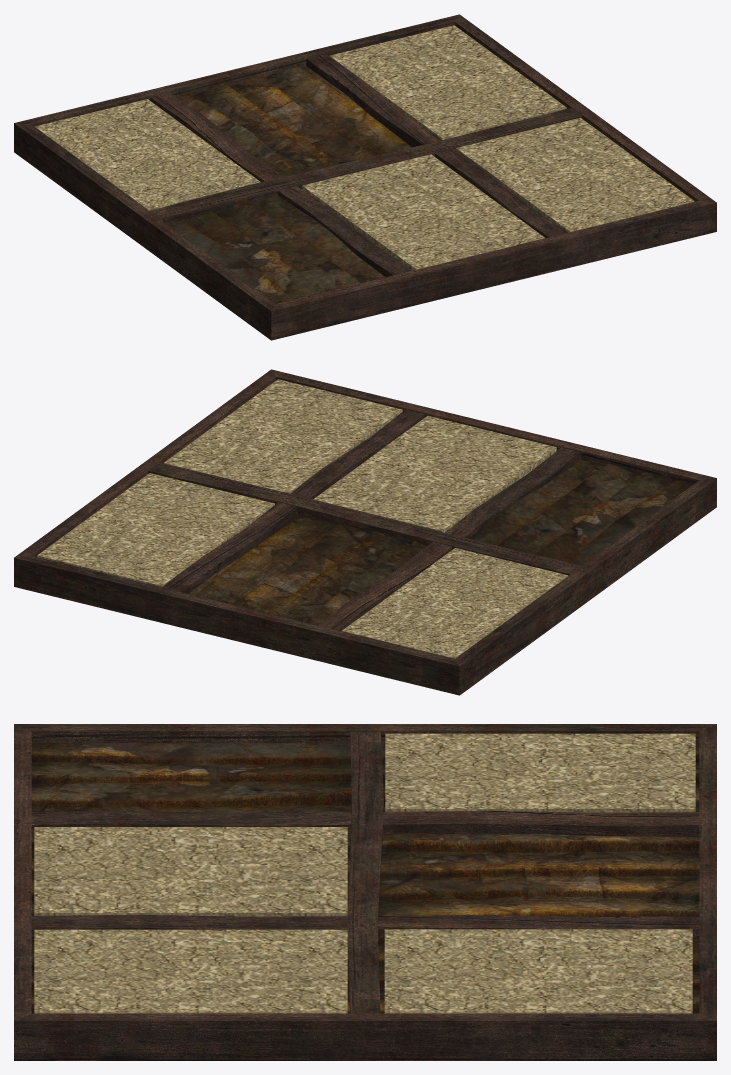
Rendered from attic_floor.DAE.
3 views of the same model, one above another, from view 1: azimuth 30°, elevation 25°; view 2: azimuth 150°, elevation 25°; view 3: azimuth 270°, elevation 25° (orthographic). The views are drawn at different scales.
Visible parts, largest first — view 1: Box003, Box008; view 2: Box003, Box008; view 3: Box003, Box008.
Boxes of the visible parts, x1,y1,x2,y2 form: Box003: [14, 14, 716, 340]; Box008: [34, 25, 694, 270]; Box003: [14, 369, 716, 695]; Box008: [37, 379, 568, 658]; Box003: [14, 724, 716, 1060]; Box008: [34, 733, 695, 1013].
Size of what is drawn, in the model's own units: 4 by 0.25 by 4.
